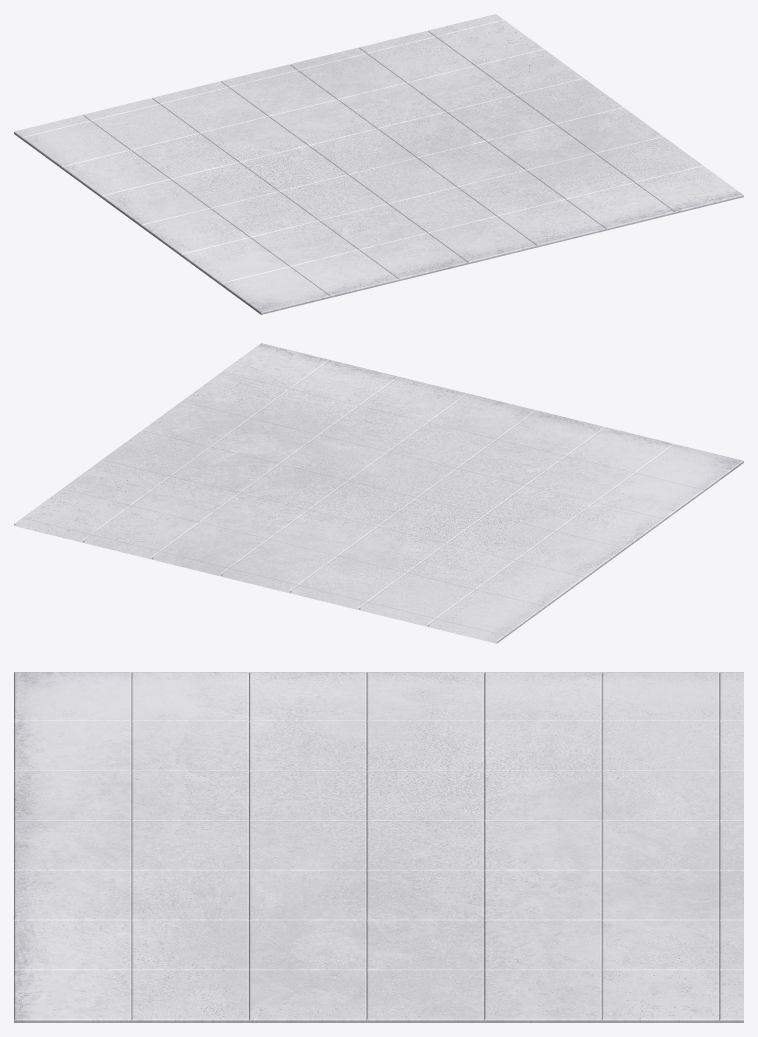
Rendered from kinkiDefoult3.gltf.
The picture shows the model from 3 angles, top to bottom: view 1: azimuth 30°, elevation 25°; view 2: azimuth 150°, elevation 25°; view 3: azimuth 270°, elevation 25°; orthographic projection. The views are drawn at different scales.
Visible parts, largest first — view 1: kinkiDefoult3; view 2: kinkiDefoult3; view 3: kinkiDefoult3.
Part boxes in pixels (x1=…): kinkiDefoult3: x1=14, y1=14, x2=743, y2=314; kinkiDefoult3: x1=14, y1=343, x2=743, y2=643; kinkiDefoult3: x1=14, y1=672, x2=743, y2=1022.
Bounding box in the file's own units: 6.3 × 0.03 × 5.59.
1 material, 1 textured.
